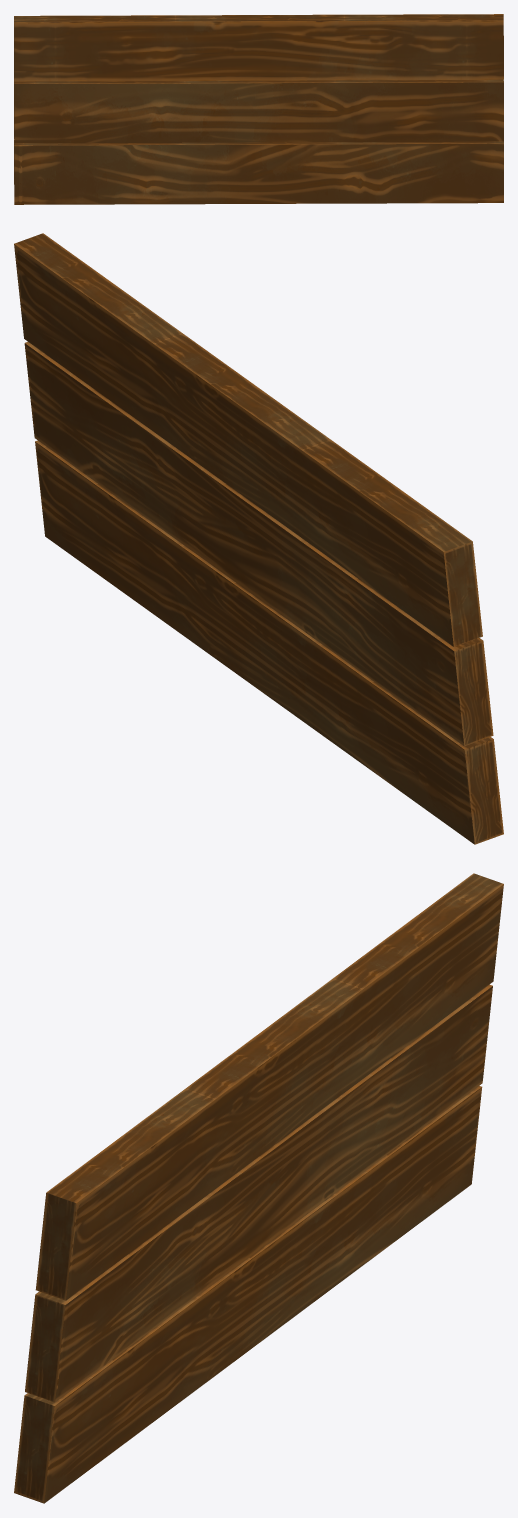
3 renders of one model, top to bottom at view 1: azimuth 30°, elevation 25°; view 2: azimuth 150°, elevation 25°; view 3: azimuth 270°, elevation 25°, orthographic. The views are drawn at different scales.
Parts seen in each view (by area): view 1: Cube.1949; view 2: Cube.1949; view 3: Cube.1949.
Boxes of the visible parts, bbox=[...] form: Cube.1949: bbox=[14, 14, 503, 204]; Cube.1949: bbox=[14, 233, 503, 844]; Cube.1949: bbox=[14, 873, 503, 1503].
Bounding box in the file's own units: 295 × 128 × 183.
1 material, 1 textured.
